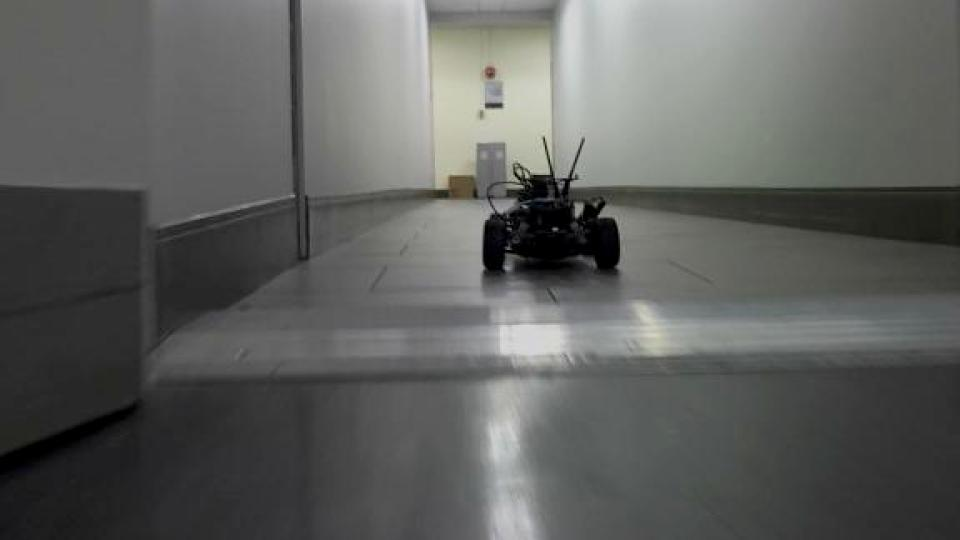car: (477, 133, 623, 277)
